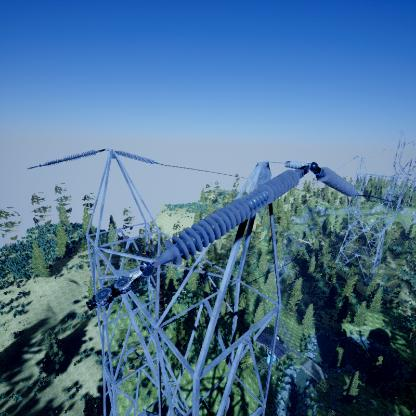insulator: (162, 168, 299, 264), (31, 145, 104, 170), (319, 167, 359, 196), (110, 146, 159, 167)
